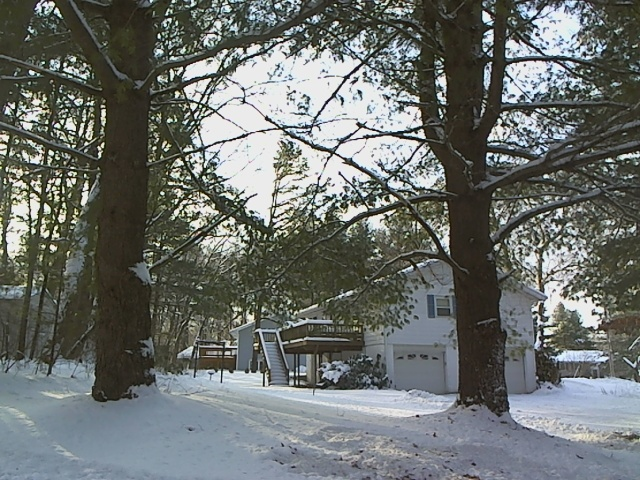Unploughed: (510, 388, 630, 434)
